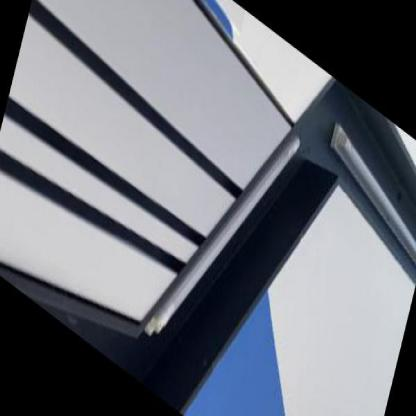light_off: (128, 0, 318, 415), (304, 90, 416, 338)
